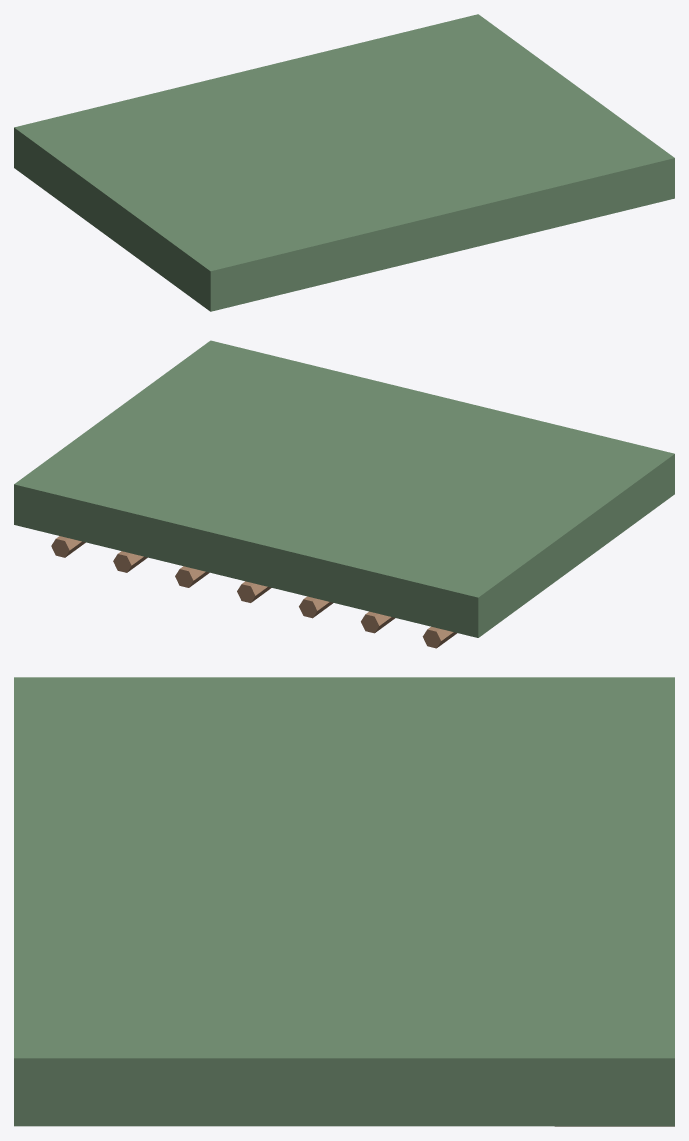
Rendered from circuit.glb.
The picture shows the model from 3 angles, top to bottom: view 1: azimuth 30°, elevation 25°; view 2: azimuth 150°, elevation 25°; view 3: azimuth 270°, elevation 25°; orthographic projection. The views are drawn at different scales.
Parts seen in each view (by area): view 1: 00_circuit_board; view 2: 00_circuit_board, 06_connector, 10_connector, 07_connector, 11_connector, 08_connector; view 3: 00_circuit_board.
Boxes of the visible parts, x1,y1,x2,y2 form: 00_circuit_board: (14,14,674,311); 00_circuit_board: (14,340,674,637); 06_connector: (361,611,395,633); 10_connector: (113,551,147,572); 07_connector: (299,596,333,618); 11_connector: (51,536,85,557); 08_connector: (237,581,271,602); 00_circuit_board: (14,677,674,1126).
Bounding box in the file's own units: 0.3 × 0.0387 × 0.22.
